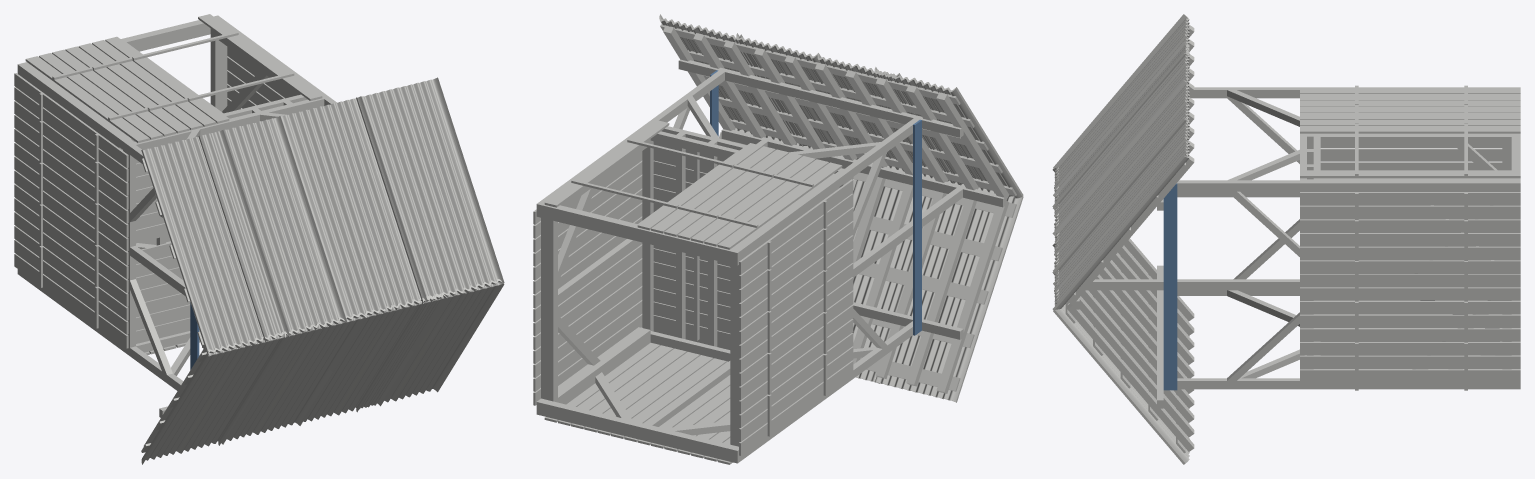
File: NEFAR_ROBOT_AWARE_GABLE.glb
3 views of the same model, side by side, from view 1: azimuth 30°, elevation 25°; view 2: azimuth 150°, elevation 25°; view 3: azimuth 270°, elevation 25° (orthographic). The views are drawn at different scales.
Visible parts, largest first — view 1: NF-COVER-01__GABLE_02__ROOF_SKIN_NORTH_WEST__SLOPE_CUT, NF-COVER-03__GABLE_04__ROOF_SKIN_NORTH_WEST__SLOPE_CUT, NF-COVER-04__GABLE_05__ROOF_SKIN_NORTH_EAST__SLOPE_CUT, NF-COVER-02__GABLE_03__ROOF_SKIN_NORTH_WEST__SLOPE_CUT, NF-COVER-03__GABLE_04__ROOF_SKIN_NORTH_EAST__SLOPE_CUT, NF-COVER-04__GABLE_06__SLOPE_CUT, NF-COVER-01__GABLE_01__SLOPE_CUT, NF-COVER-02__GABLE_03__ROOF_SKIN_NORTH_EAST__SLOPE_CUT, NF-COVER-04__GABLE_05__ROOF_SKIN_NORTH_WEST__SLOPE_CUT, NF-COVER-07__GABLE_03__ROOF_SKIN_SOUTH_WEST__SLOPE_CUT, NF-COVER-02__GABLE_02__ROOF_SKIN_NORTH_EAST__SLOPE_CUT, NF-COVER-01__GABLE_02__ROOF_SKIN_NORTH_EAST__SLOPE_CUT (+59 smaller); view 2: NF-BASE-04, NF-BASE-01, NF-PURLIN-02, NF-BASE-03, NF-COVER-08__GABLE_02__ROOF_SKIN_SOUTH_WEST__SLOPE_CUT, NF-COVER-08__GABLE_01__SLOPE_CUT, NF-PURLIN-03, NF-RAF-20, NF-RAF-19, NF-LP-03, NF-PLATE-01, NF-FJ-01 (+98 smaller); view 3: NF-CLAD-37, NF-CLAD-40, NF-CLAD-31, NF-CLAD-34, NF-CLAD-42, NF-PLATE-02, NF-CLAD-29, NF-CLAD-32, NF-CLAD-35, NF-CLAD-30, NF-CLAD-33, NF-CLAD-36 (+59 smaller).
Boxes of the visible parts, <box> form: NF-COVER-01__GABLE_02__ROOF_SKIN_NORTH_WEST__SLOPE_CUT: <box>167,135,264,333</box>; NF-COVER-03__GABLE_04__ROOF_SKIN_NORTH_WEST__SLOPE_CUT: <box>287,107,379,303</box>; NF-COVER-04__GABLE_05__ROOF_SKIN_NORTH_EAST__SLOPE_CUT: <box>378,85,469,281</box>; NF-COVER-02__GABLE_03__ROOF_SKIN_NORTH_WEST__SLOPE_CUT: <box>227,122,318,318</box>; NF-COVER-03__GABLE_04__ROOF_SKIN_NORTH_EAST__SLOPE_CUT: <box>318,100,409,297</box>; NF-COVER-04__GABLE_06__SLOPE_CUT: <box>409,77,499,274</box>; NF-COVER-01__GABLE_01__SLOPE_CUT: <box>141,144,228,341</box>; NF-COVER-02__GABLE_03__ROOF_SKIN_NORTH_EAST__SLOPE_CUT: <box>257,116,342,311</box>; NF-COVER-04__GABLE_05__ROOF_SKIN_NORTH_WEST__SLOPE_CUT: <box>356,93,438,288</box>; NF-COVER-07__GABLE_03__ROOF_SKIN_SOUTH_WEST__SLOPE_CUT: <box>227,332,320,440</box>; NF-COVER-02__GABLE_02__ROOF_SKIN_NORTH_EAST__SLOPE_CUT: <box>204,129,288,324</box>; NF-COVER-01__GABLE_02__ROOF_SKIN_NORTH_EAST__SLOPE_CUT: <box>203,130,285,324</box>; NF-BASE-04: <box>536,398,742,463</box>; NF-BASE-01: <box>536,200,742,265</box>; NF-PURLIN-02: <box>678,59,963,137</box>; NF-BASE-03: <box>541,197,557,402</box>; NF-COVER-08__GABLE_02__ROOF_SKIN_SOUTH_WEST__SLOPE_CUT: <box>897,204,987,395</box>; NF-COVER-08__GABLE_01__SLOPE_CUT: <box>929,208,1019,402</box>; NF-PURLIN-03: <box>721,129,1006,207</box>; NF-RAF-20: <box>936,201,1009,393</box>; NF-RAF-19: <box>906,198,976,386</box>; NF-LP-03: <box>558,327,650,404</box>; NF-PLATE-01: <box>913,119,921,335</box>; NF-FJ-01: <box>642,124,653,331</box>; NF-CLAD-37: <box>1300,260,1520,273</box>; NF-CLAD-40: <box>1300,219,1520,232</box>; NF-CLAD-31: <box>1300,342,1520,355</box>; NF-CLAD-34: <box>1300,301,1520,314</box>; NF-CLAD-42: <box>1300,192,1520,205</box>; NF-PLATE-02: <box>1163,183,1177,390</box>; NF-CLAD-29: <box>1300,369,1520,382</box>; NF-CLAD-32: <box>1300,328,1520,341</box>; NF-CLAD-35: <box>1300,287,1520,300</box>; NF-CLAD-30: <box>1300,355,1520,368</box>; NF-CLAD-33: <box>1300,314,1520,327</box>; NF-CLAD-36: <box>1300,274,1520,287</box>.
Size of the model in its own units: 3.68 by 3.76 by 5.15.
